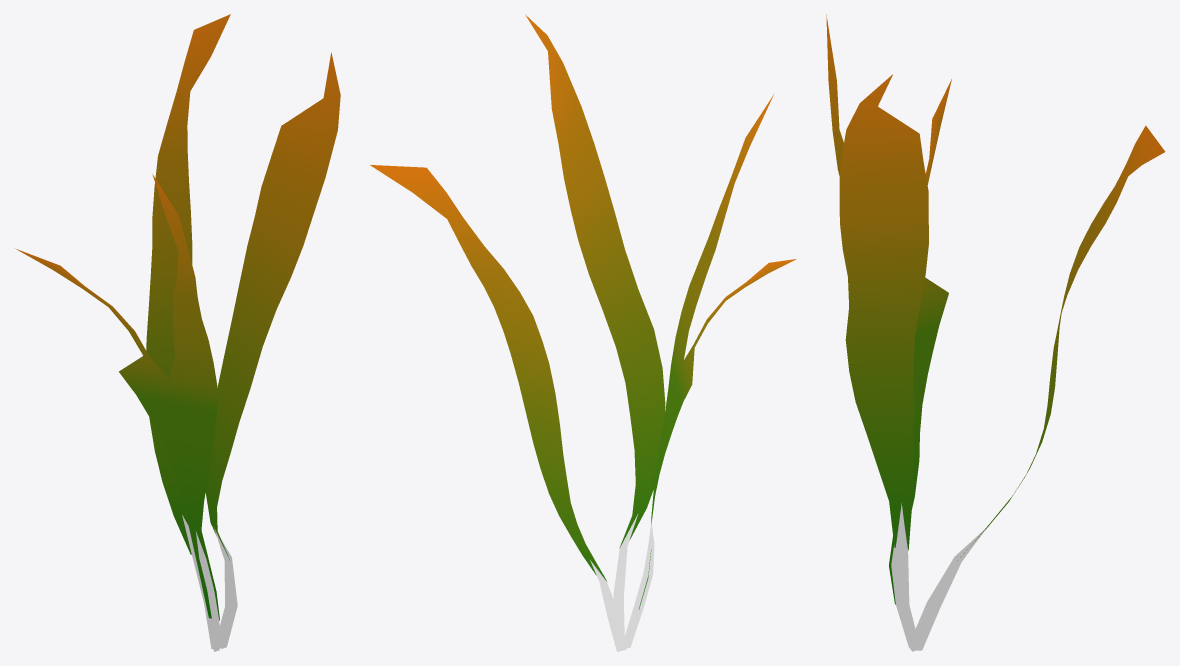
Rendered from sjglk_Var5_LOD0.fbx.
3 renders of one model, left to right at view 1: azimuth 30°, elevation 25°; view 2: azimuth 150°, elevation 25°; view 3: azimuth 270°, elevation 25°, orthographic. The views are drawn at different scales.
Parts seen in each view (by area): view 1: _26a7_Var5_LOD0; view 2: _26a7_Var5_LOD0; view 3: _26a7_Var5_LOD0.
Boxes of the visible parts, bbox=[...] form: _26a7_Var5_LOD0: bbox=[15, 14, 340, 651]; _26a7_Var5_LOD0: bbox=[370, 14, 796, 651]; _26a7_Var5_LOD0: bbox=[826, 14, 1165, 651].
Size of the model in its own units: 55.94 by 98.63 by 48.01.
